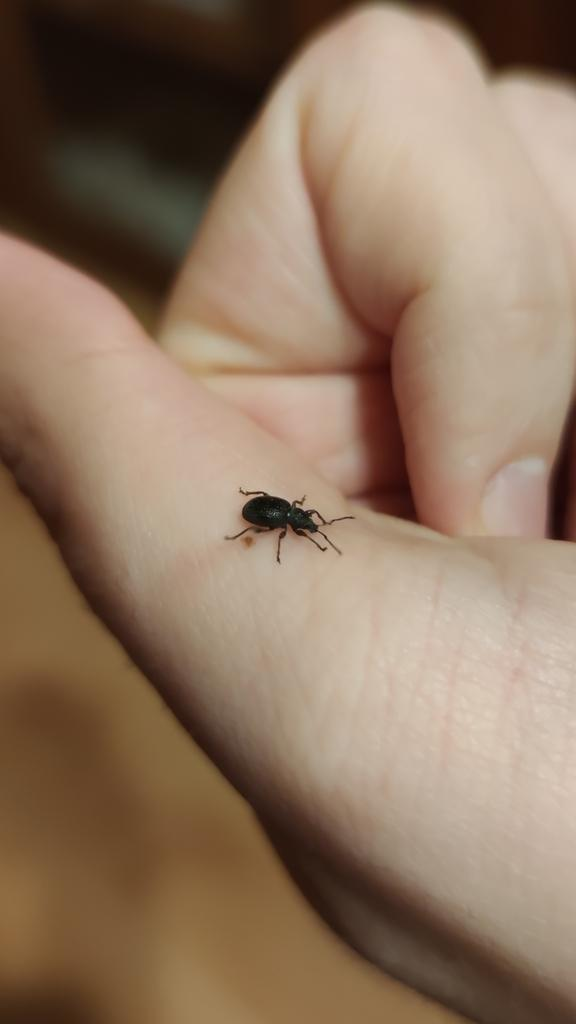weevils: (186, 441, 380, 599)
